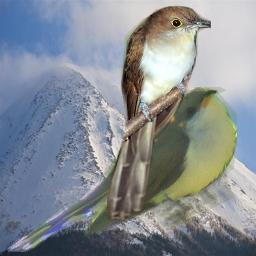Cuckoo: (5, 87, 237, 252), (107, 4, 211, 220)
